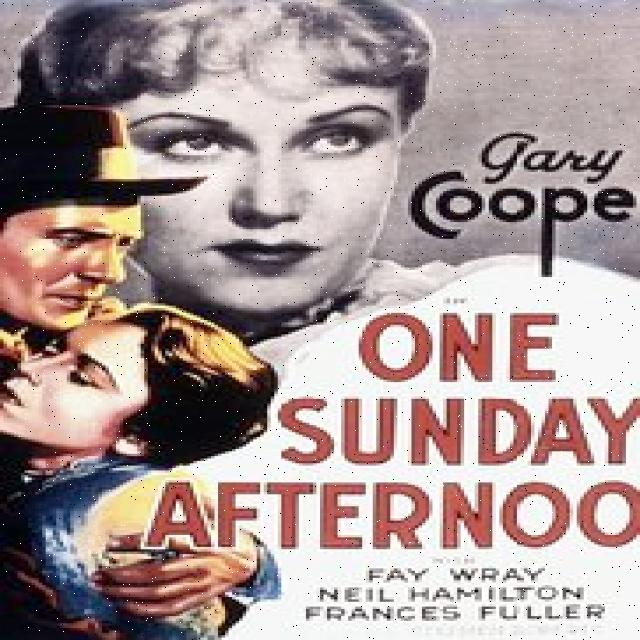movie-judul: (151, 310, 640, 554)
picture: (0, 107, 282, 640)
